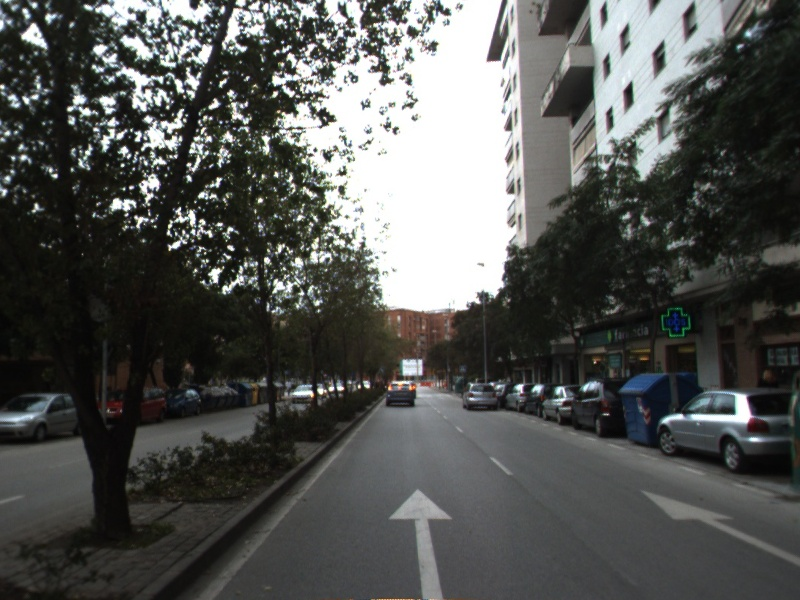STRAIGHT: (635, 486, 800, 567), (386, 486, 456, 600)
